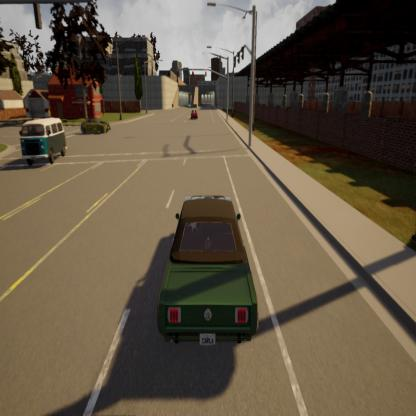Cars: (156, 197, 258, 350), (19, 116, 68, 167), (80, 113, 110, 136), (190, 108, 198, 120)
